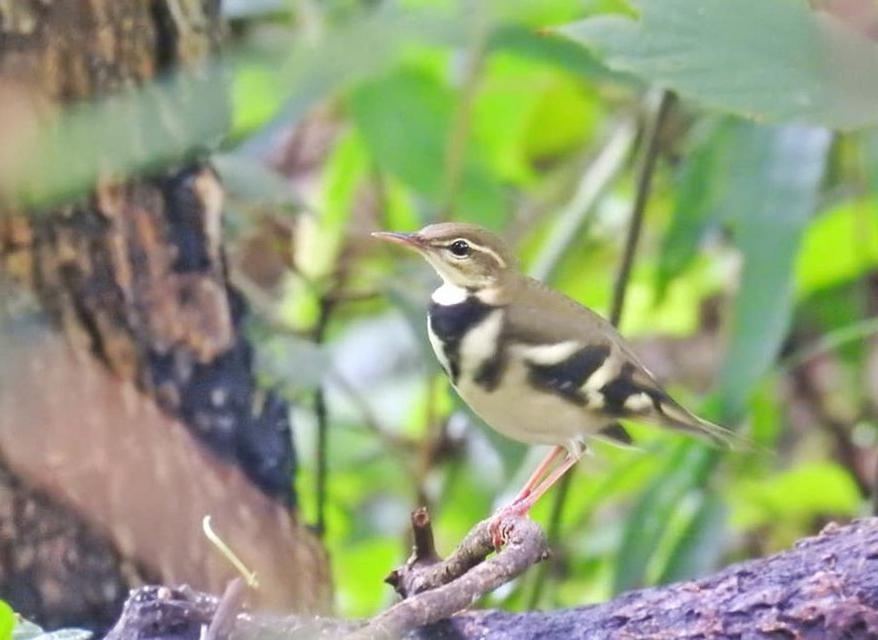wagtail: (352, 190, 748, 489)
